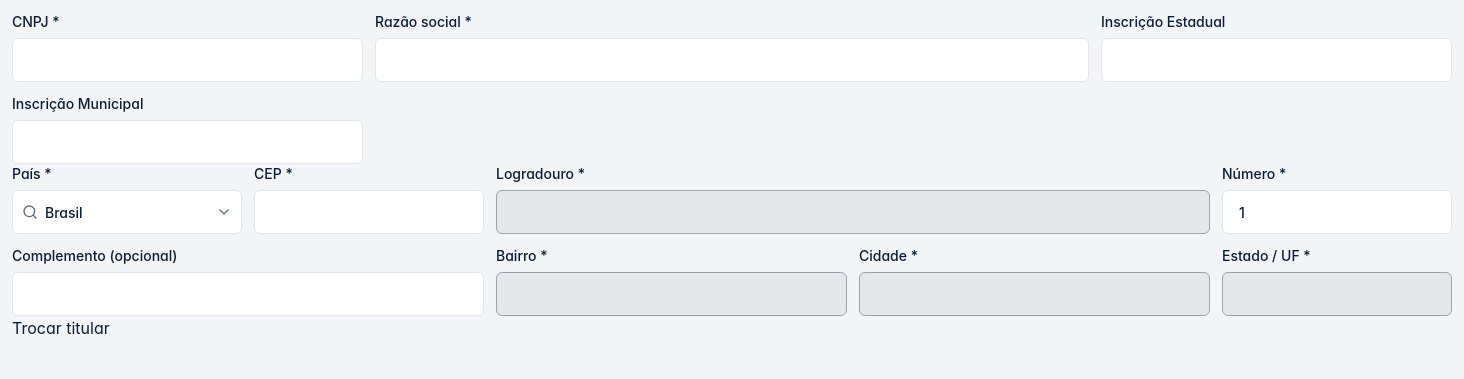
colagem de CNPJ formatado consulta e preenche razão social/endereço (gerais=true)
Click the field labelled "CNPJ *". click: (188, 60)
box: x1=12 y1=38 x2=363 y2=82
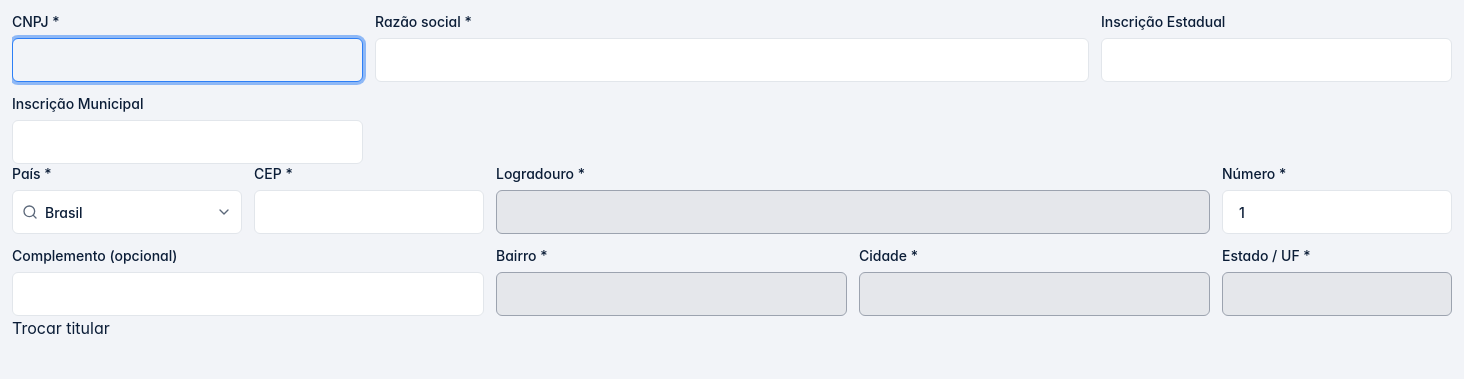
Type keys "11.222.333/0001-81"
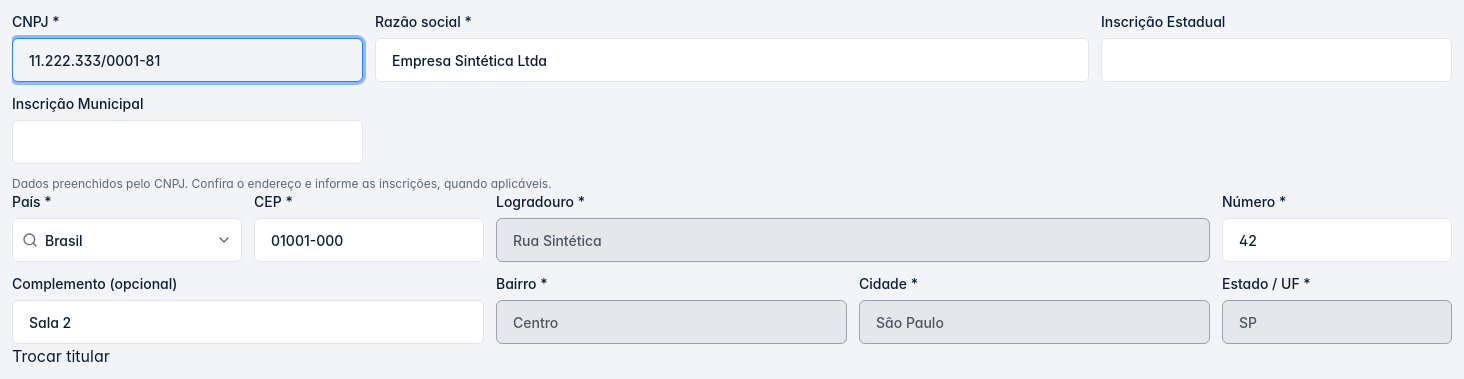
Result: the field labelled "Razão social *" holds "Empresa Sintética Ltda" at x1=375 y1=38 x2=1089 y2=82
Result: the field labelled "CNPJ *" holds "11.222.333/0001-81" at x1=12 y1=38 x2=363 y2=82
Result: the field labelled "CEP *" holds "01001-000" at x1=254 y1=218 x2=484 y2=262
